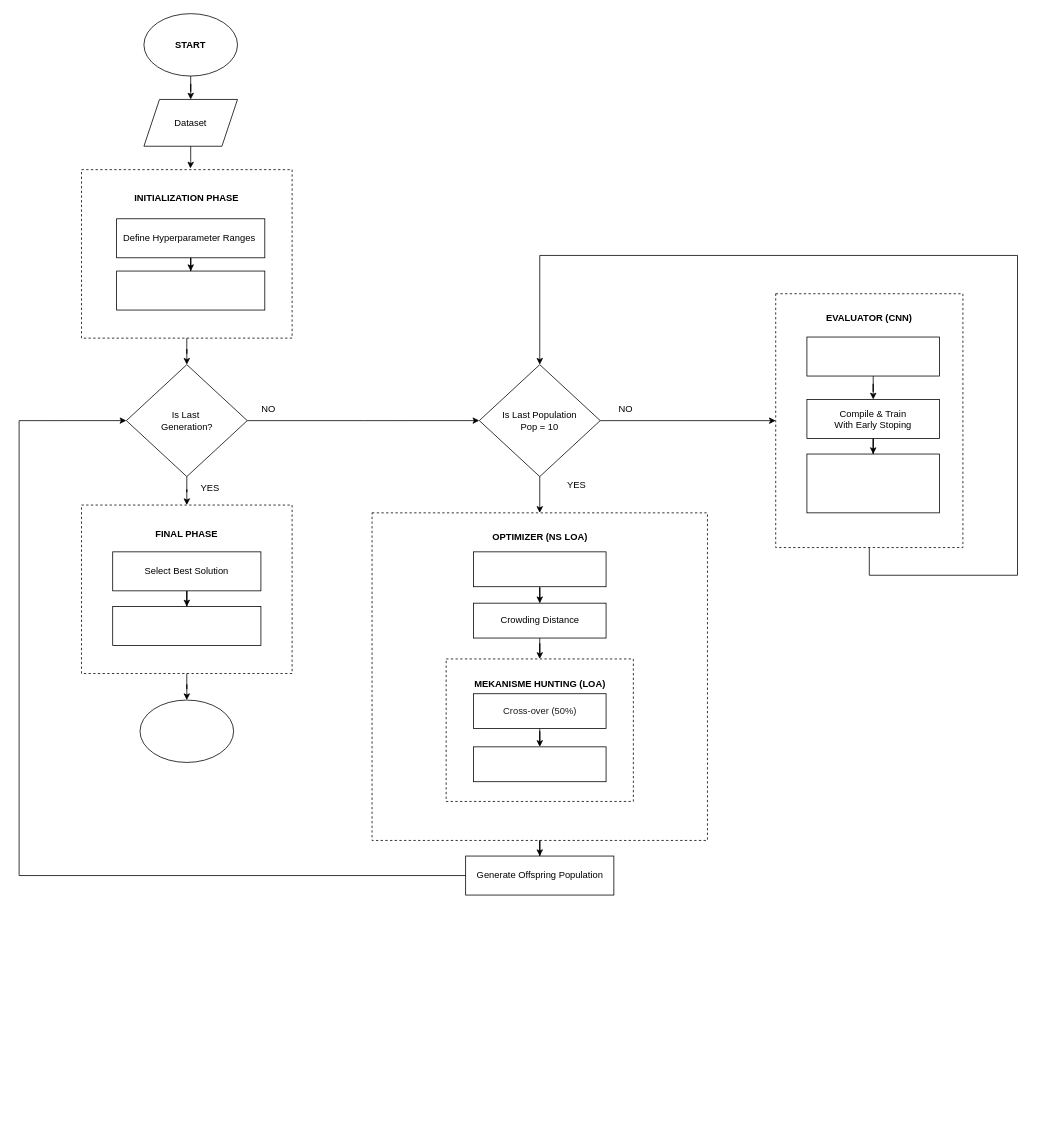
Some shapes in this 1037 by 1140 pixel diagram are drawn without their labels. The shapes that lost their labels are listed below. From the top down, each one's centre as x and y in pixels, then its label:
the point at 190,290: Initialize Population Pop Size = n
the point at 873,356: Build CNN Model
the point at 873,483: Calculate Objectives Accurasy ↑ Inference ↓ Size ↓
the point at 539,569: Non-Dominated Sorting
the point at 186,625: Save Best Model & Hyperparameters
the point at 186,730: FINISH
the point at 539,764: Mutasi (30%)
